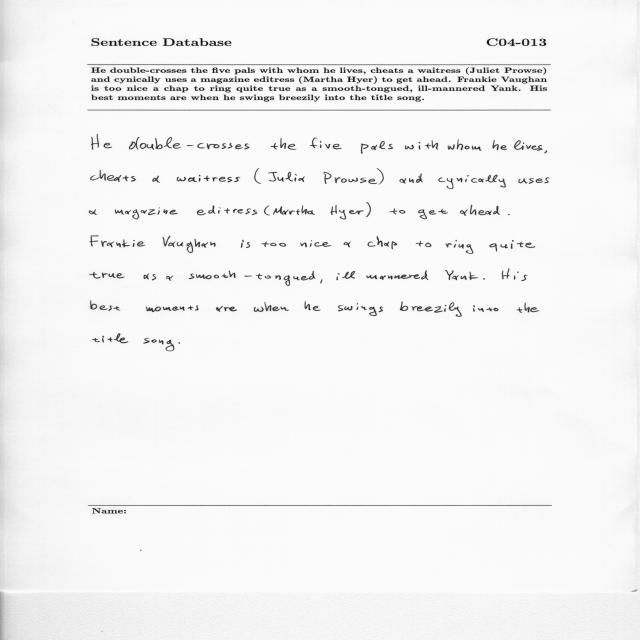word: (189, 271, 315, 286), (129, 137, 249, 150), (400, 301, 462, 317), (438, 175, 506, 189), (337, 271, 429, 281), (163, 236, 216, 253), (115, 208, 178, 220), (90, 236, 145, 247), (197, 206, 257, 216), (338, 303, 383, 316), (91, 170, 136, 182), (324, 172, 367, 184), (177, 175, 240, 183), (331, 205, 364, 220), (490, 240, 535, 251), (460, 205, 500, 216), (273, 205, 315, 215), (361, 141, 393, 154), (144, 338, 175, 351), (448, 139, 481, 151), (446, 240, 474, 254), (310, 138, 342, 150), (368, 236, 397, 249), (268, 172, 305, 182), (146, 305, 198, 312), (254, 302, 289, 312), (93, 334, 128, 344), (91, 134, 112, 150), (405, 140, 438, 150), (445, 270, 478, 280), (271, 138, 297, 150), (502, 269, 528, 281), (514, 140, 542, 151), (418, 209, 448, 219), (91, 301, 120, 311), (368, 168, 384, 185), (399, 173, 423, 184), (90, 272, 125, 279), (517, 302, 539, 313), (300, 241, 332, 248), (519, 177, 550, 184), (473, 305, 498, 312), (304, 301, 321, 311), (492, 140, 507, 150), (216, 306, 237, 312), (262, 242, 287, 247), (254, 168, 261, 184), (390, 209, 406, 215), (416, 241, 431, 247), (144, 274, 156, 281), (366, 203, 371, 218), (241, 240, 250, 248), (264, 206, 270, 216), (152, 176, 160, 183), (90, 209, 97, 215), (344, 242, 351, 248), (166, 276, 173, 281), (320, 280, 323, 284), (544, 151, 547, 154), (483, 278, 485, 280), (179, 342, 181, 344), (508, 214, 510, 215)
